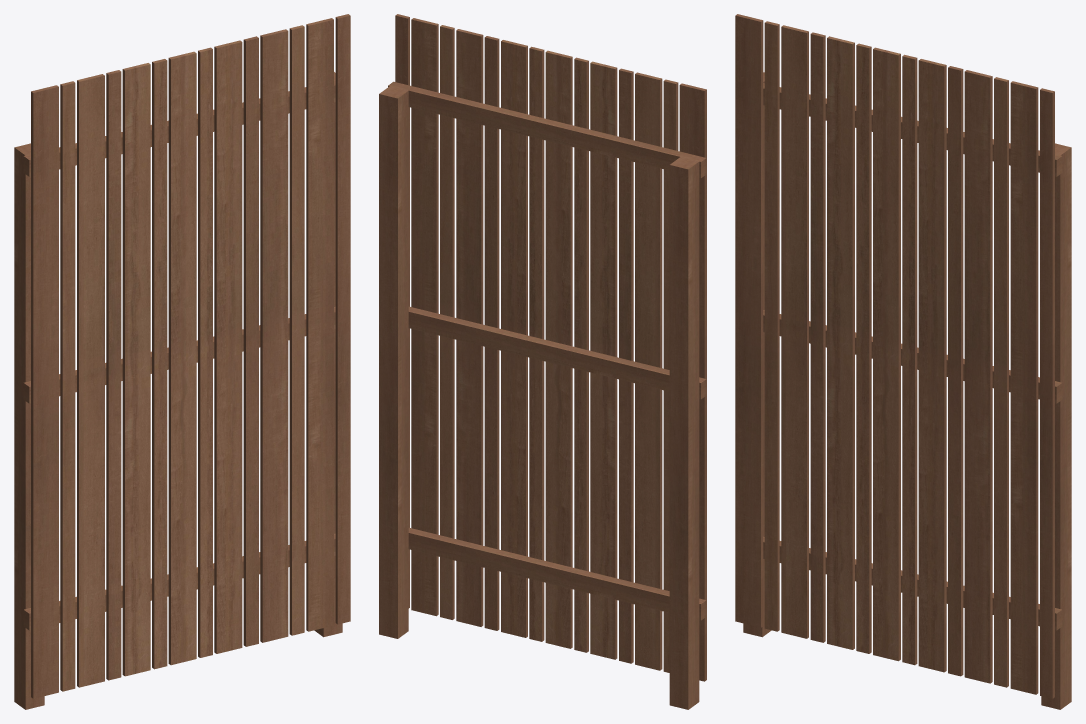
Rendered from tatehari80-40_h1800_jara.fbx.
3 views of the same model, side by side, from view 1: azimuth 30°, elevation 25°; view 2: azimuth 150°, elevation 25°; view 3: azimuth 330°, elevation 25° (orthographic). The views are drawn at different scales.
Visible parts, largest first — view 1: tatehari80-40_h1800_jara; view 2: tatehari80-40_h1800_jara; view 3: tatehari80-40_h1800_jara.
Boxes of the visible parts, x1,y1,x2,y2 form: tatehari80-40_h1800_jara: (14, 14, 350, 709); tatehari80-40_h1800_jara: (379, 14, 706, 709); tatehari80-40_h1800_jara: (735, 14, 1071, 709).
Size of the model in its own units: 100 by 185 by 10.2.
1 material, 1 textured.
